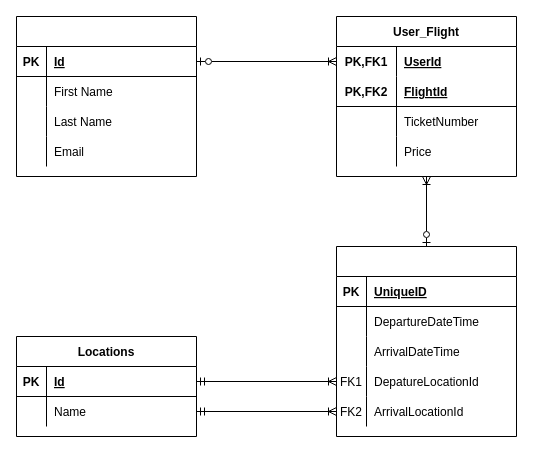
This 533x453 diagram has some shape labels left out. Here are the shapes that lost their labels. From the top down, the box of each, then its label:
(16, 16, 196, 176): Users
(336, 246, 516, 436): Flights
